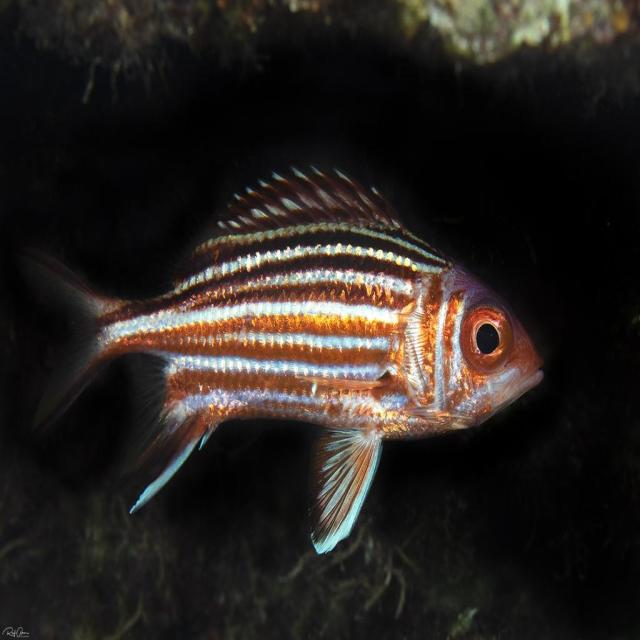Asker Baligi: (9, 166, 551, 558)
